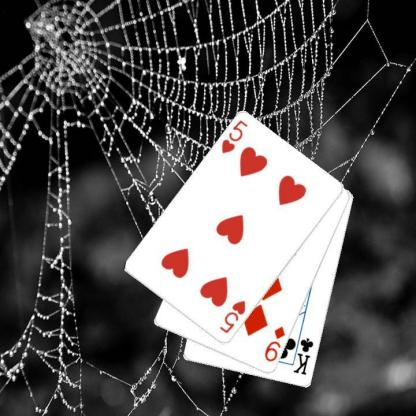5H: (218, 118, 249, 155), (217, 298, 247, 335)
9D: (262, 324, 286, 364)
KC: (289, 330, 315, 377)
